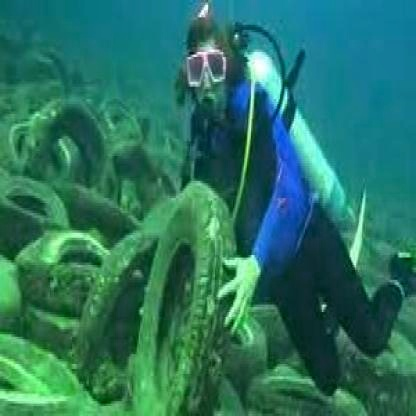tire: (129, 168, 227, 416), (63, 218, 166, 371), (19, 87, 119, 198), (324, 300, 416, 414), (3, 220, 123, 292), (234, 359, 372, 416), (1, 327, 82, 416), (4, 168, 74, 250), (214, 292, 268, 376), (114, 139, 183, 188)
